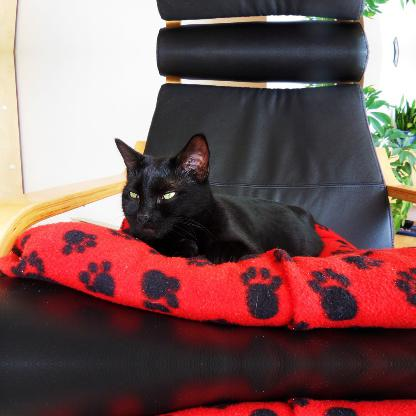Cat: (114, 132, 324, 263)
